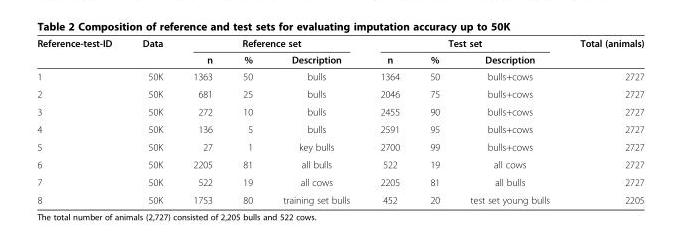table: (36, 37, 643, 205)
table column: (454, 37, 564, 205), (267, 37, 364, 205), (36, 37, 126, 205), (564, 37, 643, 205), (126, 37, 177, 205), (177, 37, 227, 205), (364, 37, 414, 205), (227, 37, 267, 205), (414, 37, 454, 205)
table column header: (36, 37, 643, 67)
table row: (36, 84, 643, 102), (36, 102, 643, 120), (36, 137, 643, 155), (36, 155, 643, 173), (36, 67, 643, 84), (36, 120, 643, 137), (36, 173, 643, 190), (36, 51, 643, 67), (36, 190, 643, 205), (36, 37, 643, 51)
table spanning cell: (364, 37, 564, 51), (36, 37, 126, 67), (177, 37, 364, 51), (564, 37, 643, 67), (126, 37, 177, 67)
